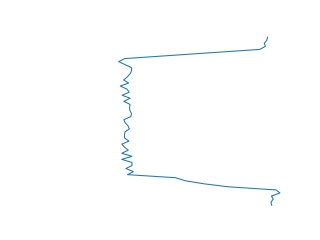distributaryChannelFill: (114, 37, 284, 207)
